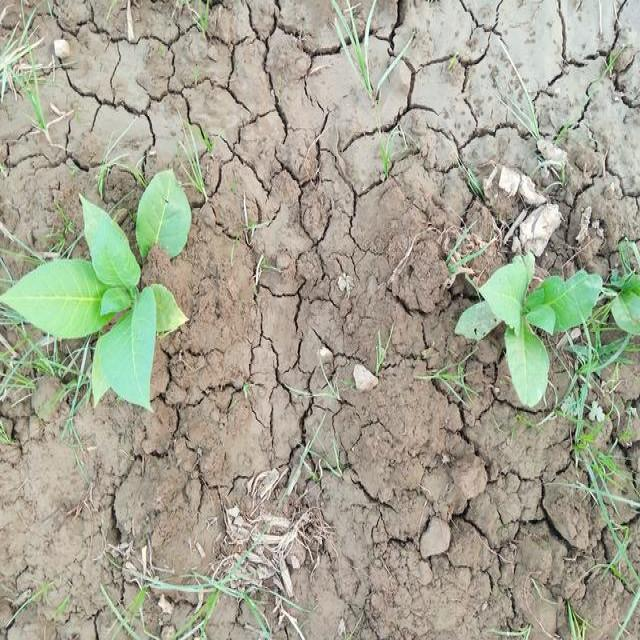crop: (12, 175, 192, 406), (459, 256, 602, 401)
